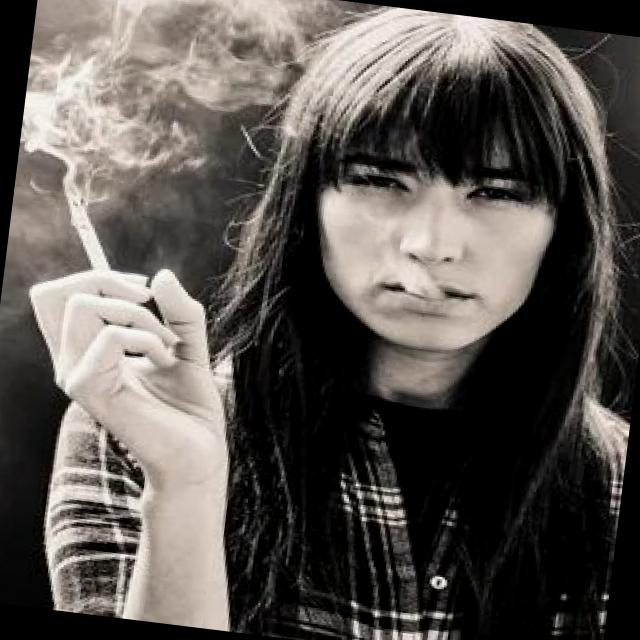smoke: (46, 195, 138, 290)
